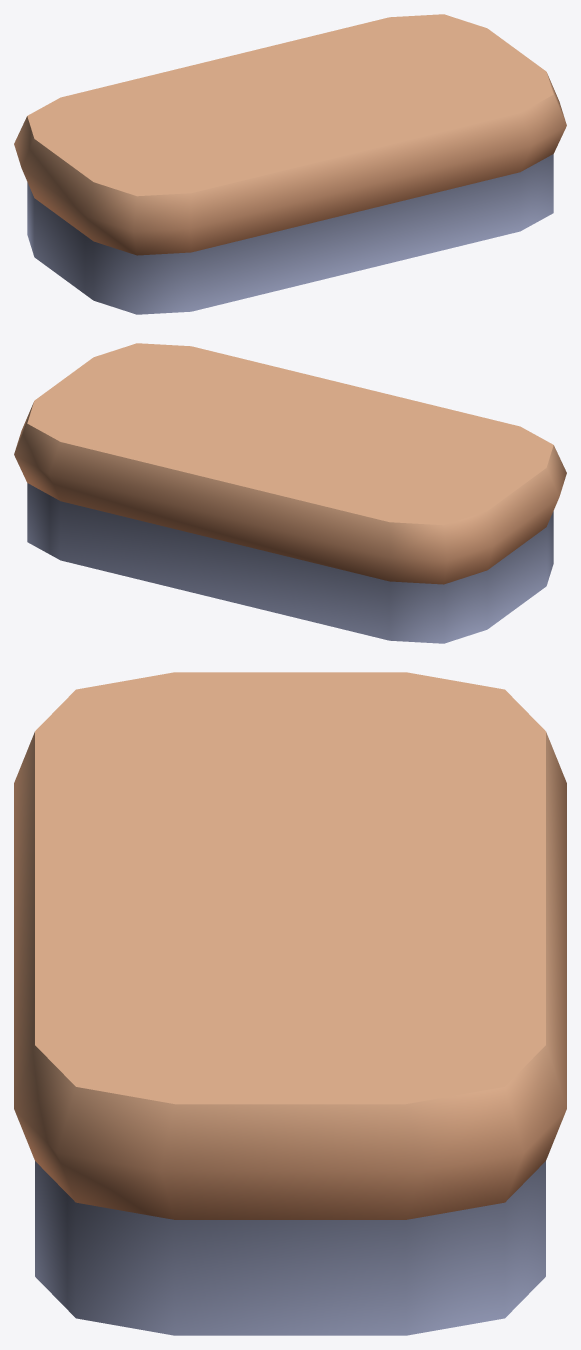
Rendered from block-grass-low-long.glb.
3 views of the same model, one above another, from view 1: azimuth 30°, elevation 25°; view 2: azimuth 150°, elevation 25°; view 3: azimuth 270°, elevation 25° (orthographic). The views are drawn at different scales.
Visible parts, largest first — view 1: block-grass-low-long; view 2: block-grass-low-long; view 3: block-grass-low-long.
Part boxes in pixels (x1,y1,x2,y2): block-grass-low-long: (14, 14, 566, 314); block-grass-low-long: (14, 343, 566, 643); block-grass-low-long: (14, 672, 566, 1335).
Bounding box in the file's own units: 2.08 × 0.5 × 1.08.
